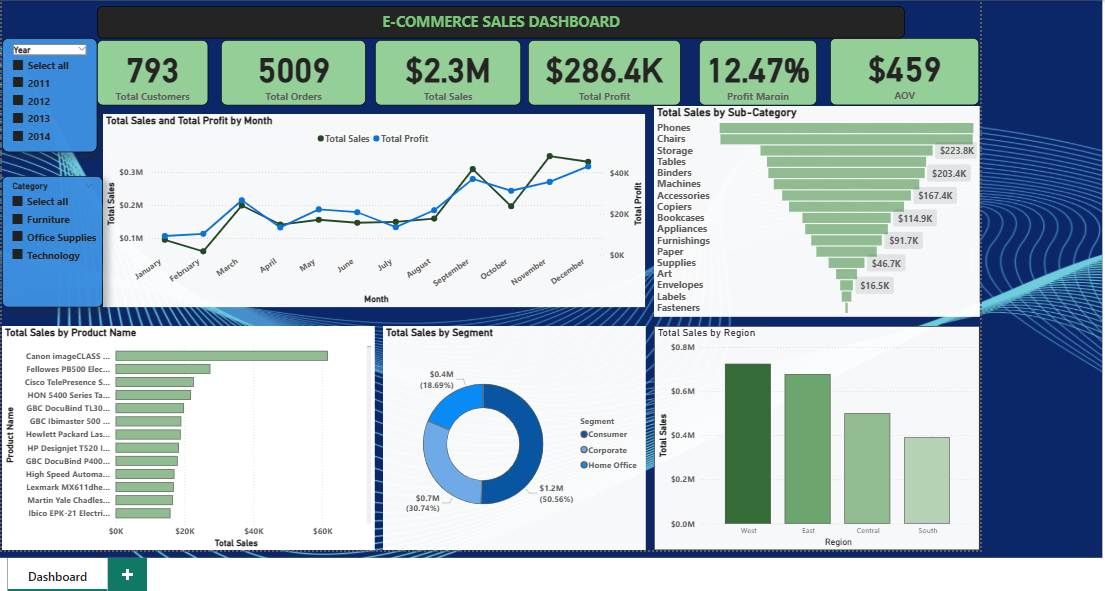

Layout of this report page (visuals, bound fields, positions):
{"tool":"powerbi","page":{"name":"Dashboard","canvas":[1600,900],"ordinal":0},"visuals":[{"type":"slicer","fields":{"Values":["Orders.Year"]},"box":[0,62.4,156.1,187.3],"z":1},{"type":"clusteredBarChart","fields":{"Y":["Orders.Total Sales"],"Category":["Orders.Product Name"]},"box":[0,532.7,609.8,367.3],"z":2},{"type":"lineChart","title":"Total Sales and Total Profit by Month","fields":{"Category":["Orders.Month Name"],"Y":["Orders.Total Sales"],"Y2":["Orders.Total Profit"]},"box":[165.3,187.3,887.1,315.9],"z":5},{"type":"funnel","fields":{"Y":["Orders.Total Sales"],"Category":["Orders.Sub-Category"]},"box":[1067.1,172.7,532.7,345.3],"z":6},{"type":"donutChart","fields":{"Y":["Orders.Total Sales"],"Category":["Orders.Segment"]},"box":[622.7,532.7,429.8,367.3],"z":9},{"type":"card","fields":{"Values":["Orders.Total Customers"]},"box":[156.1,66.1,181.8,106.5],"z":10},{"type":"card","fields":{"Values":["Orders.Total Orders"]},"box":[358.2,66.1,236.9,106.5],"z":11},{"type":"card","fields":{"Values":["Orders.Total Sales"]},"box":[609.8,66.1,238.8,106.5],"z":12},{"type":"card","fields":{"Values":["Orders.Total Profit"]},"box":[861.4,66.1,249.8,106.5],"z":13},{"type":"card","fields":{"Values":["Orders.Profit Margin"]},"box":[1140.6,66.1,192.9,106.5],"z":14},{"type":"card","fields":{"Values":["Orders.AOV"]},"box":[1355.5,62.4,244.3,110.2],"z":15},{"type":"clusteredColumnChart","fields":{"Category":["Orders.Region"],"Y":["Orders.Total Sales"]},"box":[1067.1,532.7,532.7,367.3],"z":16},{"type":"slicer","fields":{"Values":["Orders.Category"]},"box":[0,288.4,165.3,214.9],"z":17},{"type":"textbox","box":[156.1,9.2,1322.4,53.3],"z":18}]}

Visuals, with their boxes on the page's 1600x900 design canvas (x1, y1, x2, y2). These are canvas units, not pixel positions in the 1105x591 screenshot, which may show the page scaled, cropped or inside an application window:
slicer - Orders.Year: rect(0, 62, 156, 250)
clusteredBarChart - Orders.Total Sales x Orders.Product Name: rect(0, 533, 610, 900)
"Total Sales and Total Profit by Month" lineChart: rect(165, 187, 1052, 503)
funnel - Orders.Total Sales x Orders.Sub-Category: rect(1067, 173, 1600, 518)
donutChart - Orders.Total Sales x Orders.Segment: rect(623, 533, 1052, 900)
card - Orders.Total Customers: rect(156, 66, 338, 173)
card - Orders.Total Orders: rect(358, 66, 595, 173)
card - Orders.Total Sales: rect(610, 66, 849, 173)
card - Orders.Total Profit: rect(861, 66, 1111, 173)
card - Orders.Profit Margin: rect(1141, 66, 1334, 173)
card - Orders.AOV: rect(1356, 62, 1600, 173)
clusteredColumnChart - Orders.Region x Orders.Total Sales: rect(1067, 533, 1600, 900)
slicer - Orders.Category: rect(0, 288, 165, 503)
textbox: rect(156, 9, 1478, 62)
